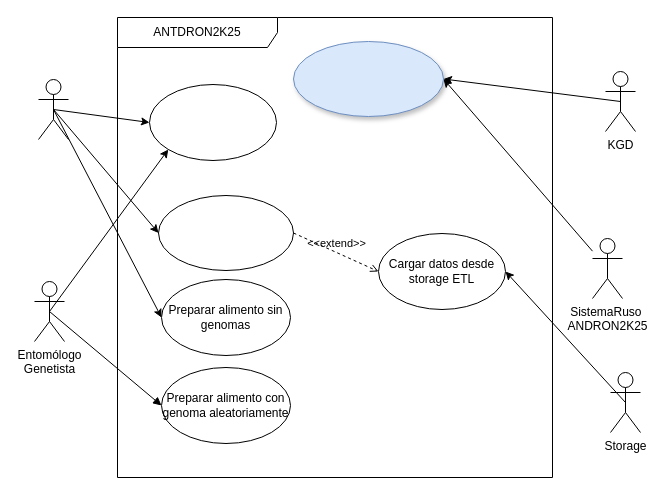
Image size: 664x495. Some labels were removed from this diagram. The shapes that lost their labels are listed below. From the top down, each one's centre as x and y in pixels, then its label:
At pixel 369 80: "Autenticarse".
At pixel 53 109: "Entomólogo".
At pixel 212 122: "Alimentar hormiga".
At pixel 226 232: "Cosechar caso de estudio mediante ETL".
